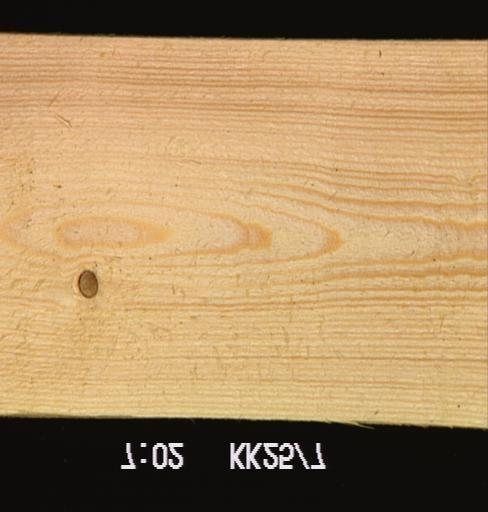dry_knot: (74, 268, 98, 301)
